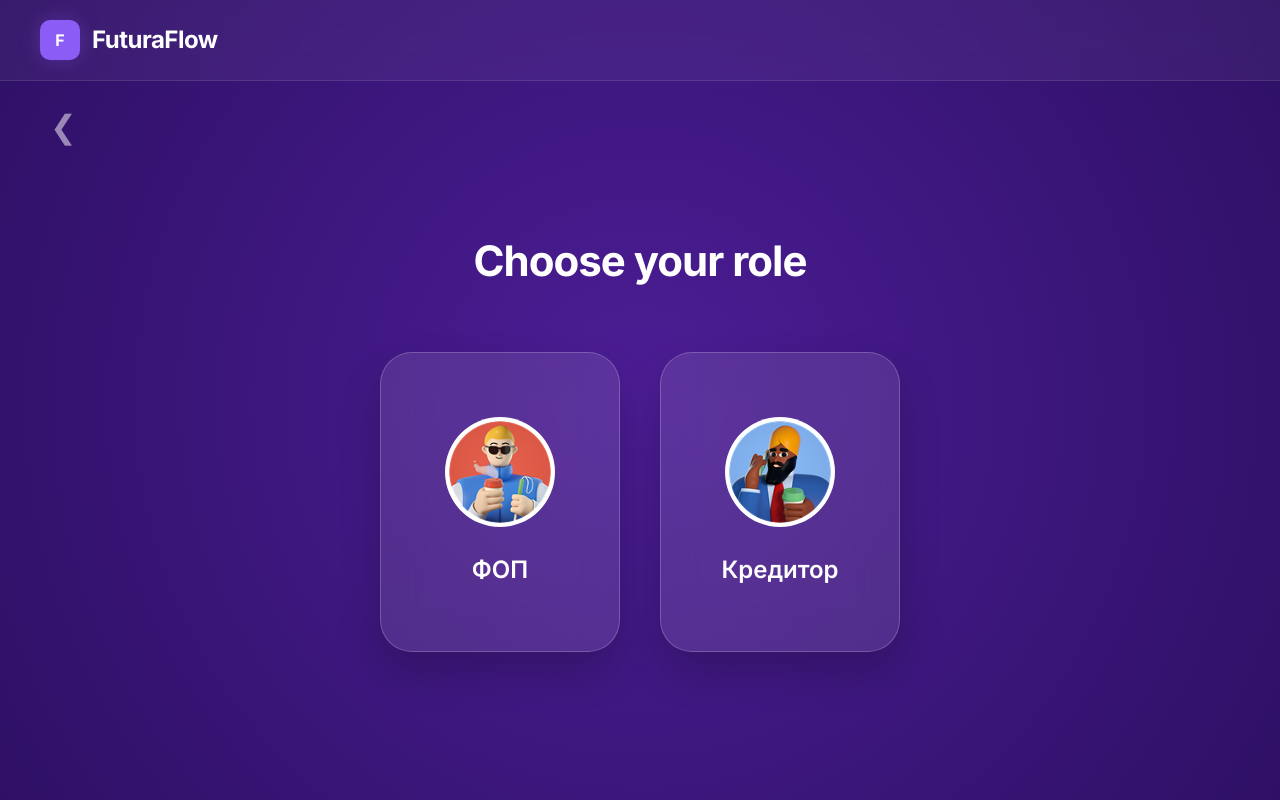
Test case: ChooseRole — role selection screen › shows "Завершити верифікацію" submit button in the form
Click the button "ФОП". click: (500, 502)
box: [380,352,620,652]
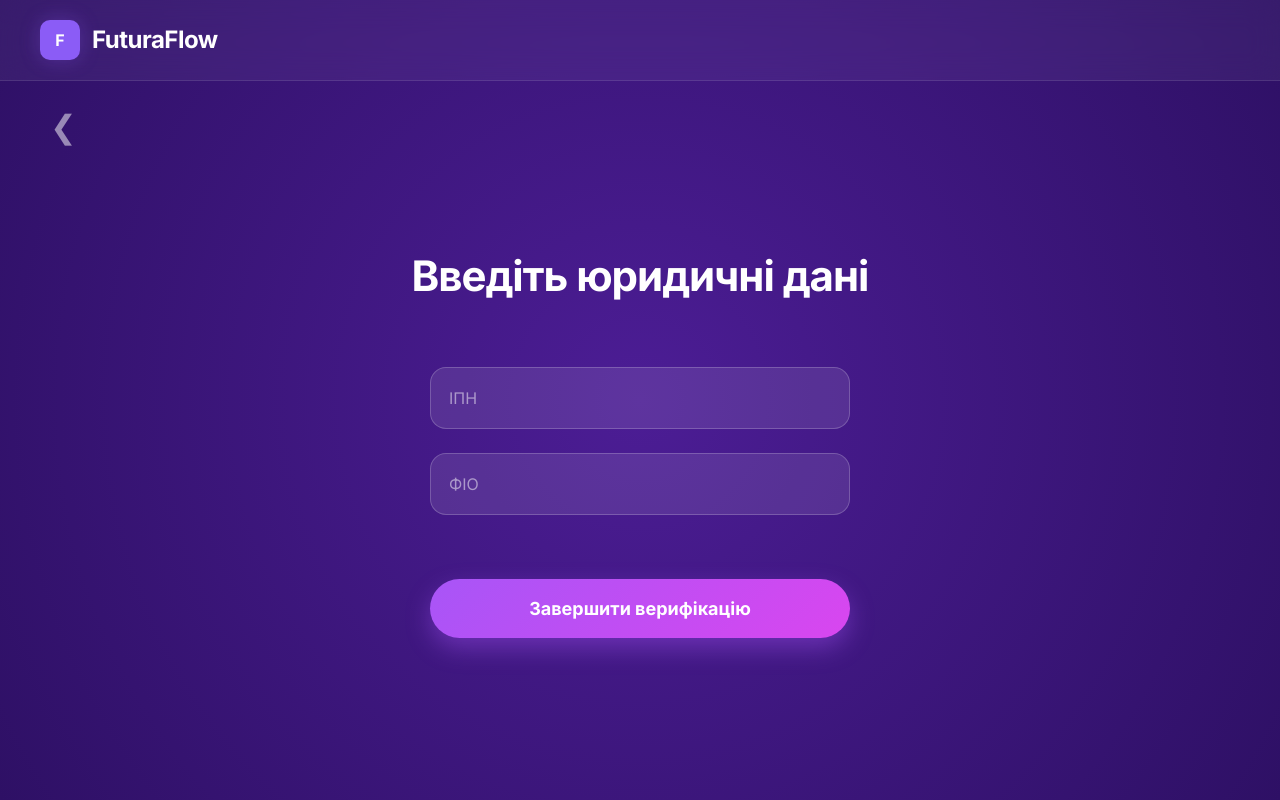
Expected: the button "Завершити верифікацію" is shown, [430,578,850,638]
